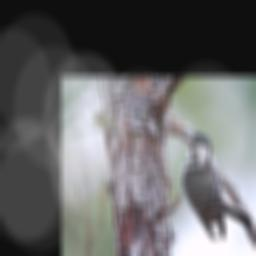Woodpecker: (178, 128, 253, 240)
